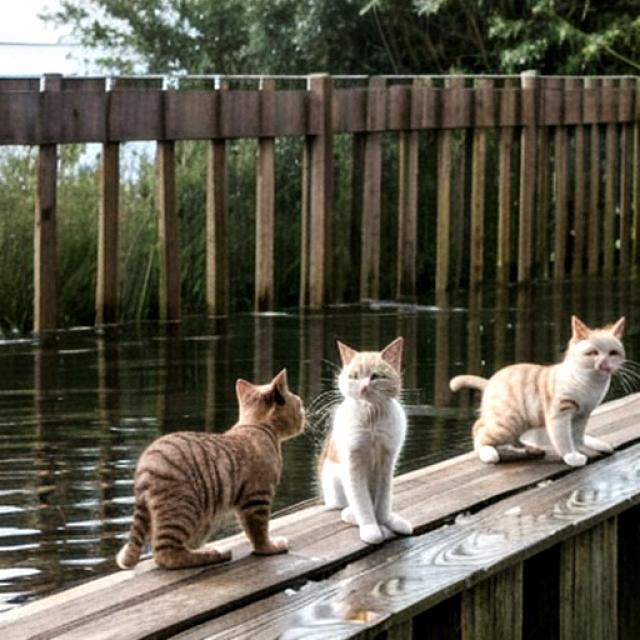cat: (114, 371, 310, 583), (442, 315, 632, 476), (315, 333, 426, 551)
